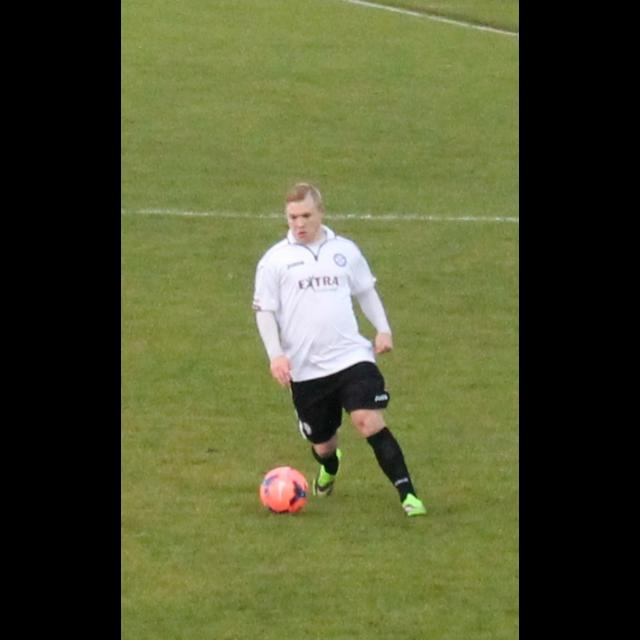Football: (256, 465, 308, 509)
